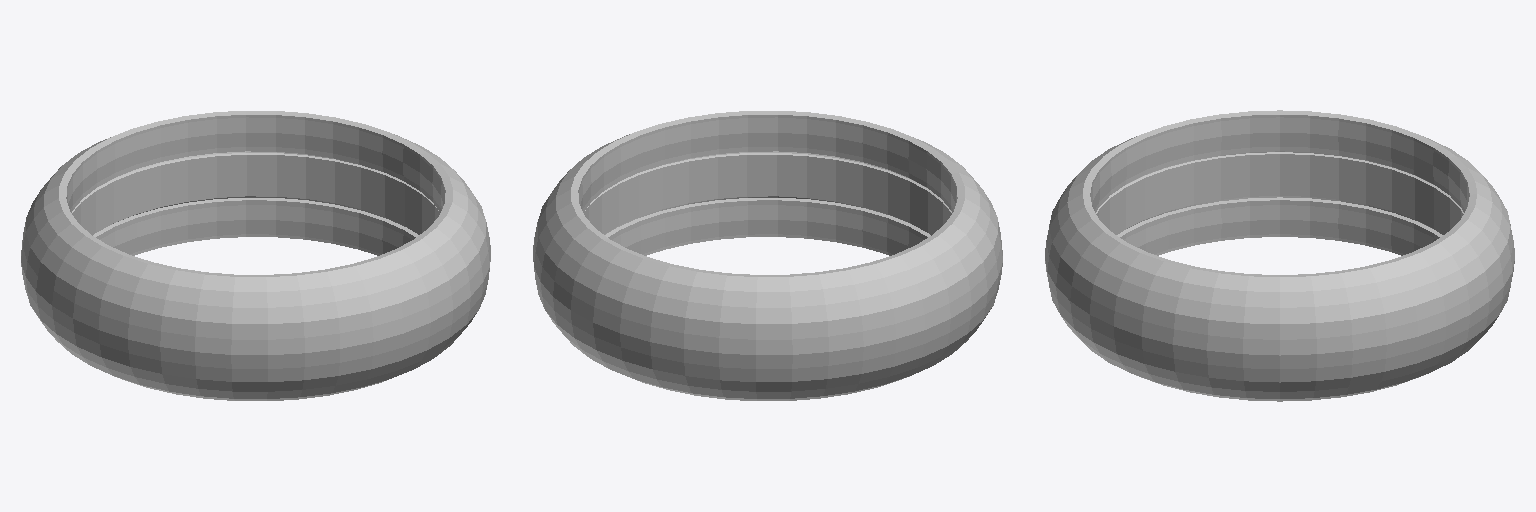
File: Gold Ring.obj
3 renders of one model, left to right at view 1: azimuth 30°, elevation 25°; view 2: azimuth 150°, elevation 25°; view 3: azimuth 270°, elevation 25°, orthographic.
Visible parts, largest first — view 1: Gold_Ring; view 2: Gold_Ring; view 3: Gold_Ring.
Part boxes in pixels (bbox=[...]): Gold_Ring: bbox=[21, 111, 490, 400]; Gold_Ring: bbox=[533, 111, 1002, 400]; Gold_Ring: bbox=[1045, 110, 1514, 401].
Size of the model in its own units: 20 by 5.82 by 20.